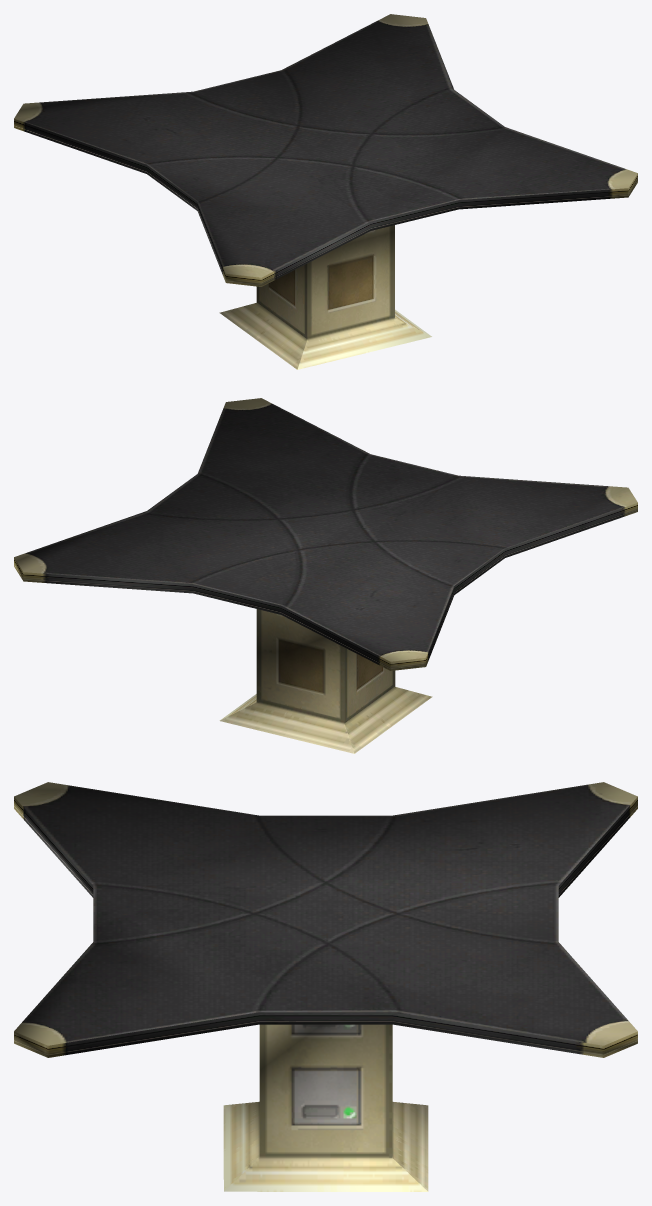
File: TABLE01.glb
3 renders of one model, top to bottom at view 1: azimuth 30°, elevation 25°; view 2: azimuth 150°, elevation 25°; view 3: azimuth 270°, elevation 25°, orthographic. The views are drawn at different scales.
Visible parts, largest first — view 1: Line01; view 2: Line01; view 3: Line01.
Boxes of the visible parts, box(x1,y1,x2,y2) form: Line01: box(14, 14, 637, 369); Line01: box(14, 398, 637, 753); Line01: box(14, 782, 637, 1191).
Size of the model in its own units: 124 by 51.48 by 124.
1 material, 1 textured.
